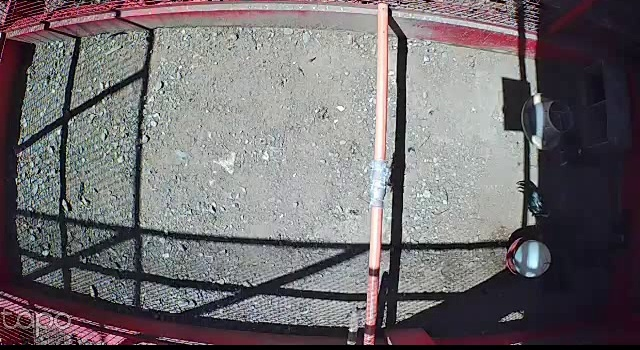Chicken: (555, 130, 608, 182)
Drinker: (506, 235, 553, 280)
Feeder: (522, 90, 576, 152)
Rooster: (518, 177, 587, 251)
